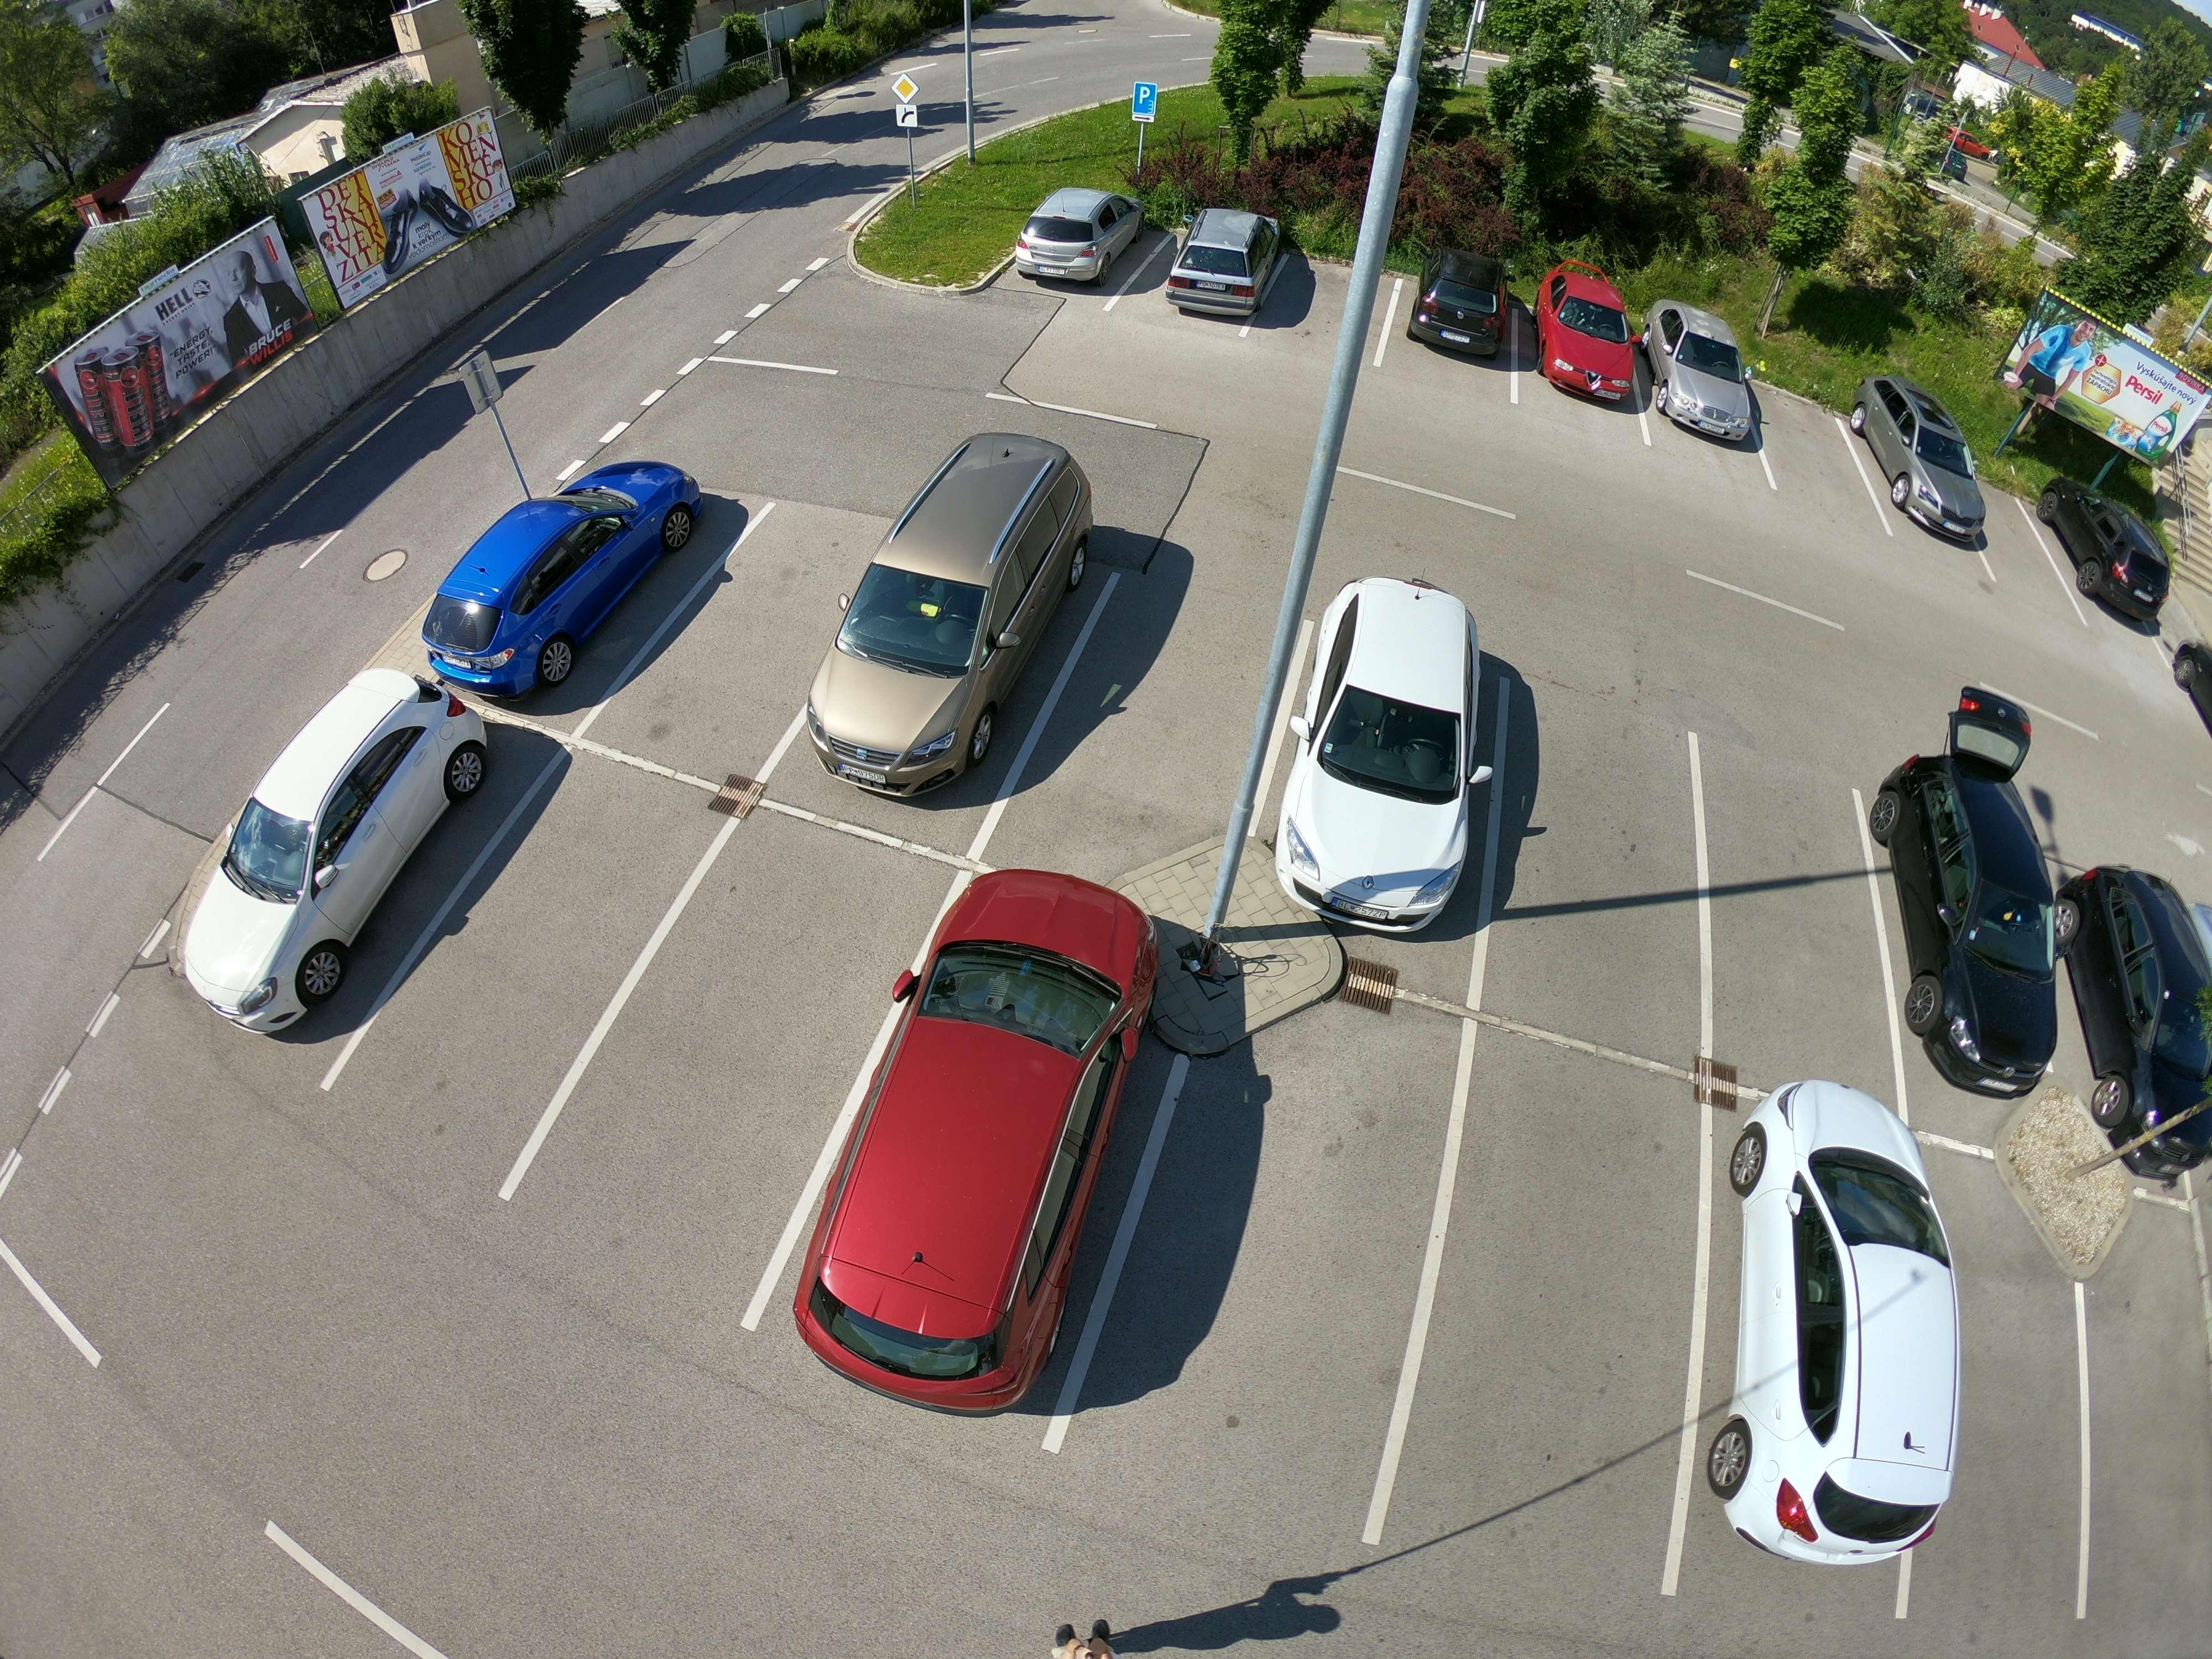empty: (803, 857, 1157, 1405), (1703, 1040, 1987, 1568), (167, 664, 495, 1025), (791, 436, 1104, 791), (1249, 566, 1526, 934), (1865, 695, 2101, 1091), (418, 457, 705, 690), (2073, 843, 2212, 1162), (1853, 376, 1998, 537), (1632, 295, 1763, 448), (1527, 261, 1648, 410), (2048, 495, 2172, 626), (1015, 176, 1148, 293), (1404, 251, 1526, 368), (1158, 199, 1282, 312)
occupied: (1153, 1089, 1402, 1391), (1454, 1150, 1672, 1455), (1933, 1277, 2094, 1528), (634, 950, 838, 1140), (1500, 762, 1686, 965), (2094, 1283, 2212, 1570), (1052, 641, 1244, 803), (1723, 852, 1879, 1039), (420, 870, 594, 1025), (674, 575, 808, 699), (1263, 246, 1378, 373), (1778, 427, 1851, 493), (1987, 504, 2048, 573)
